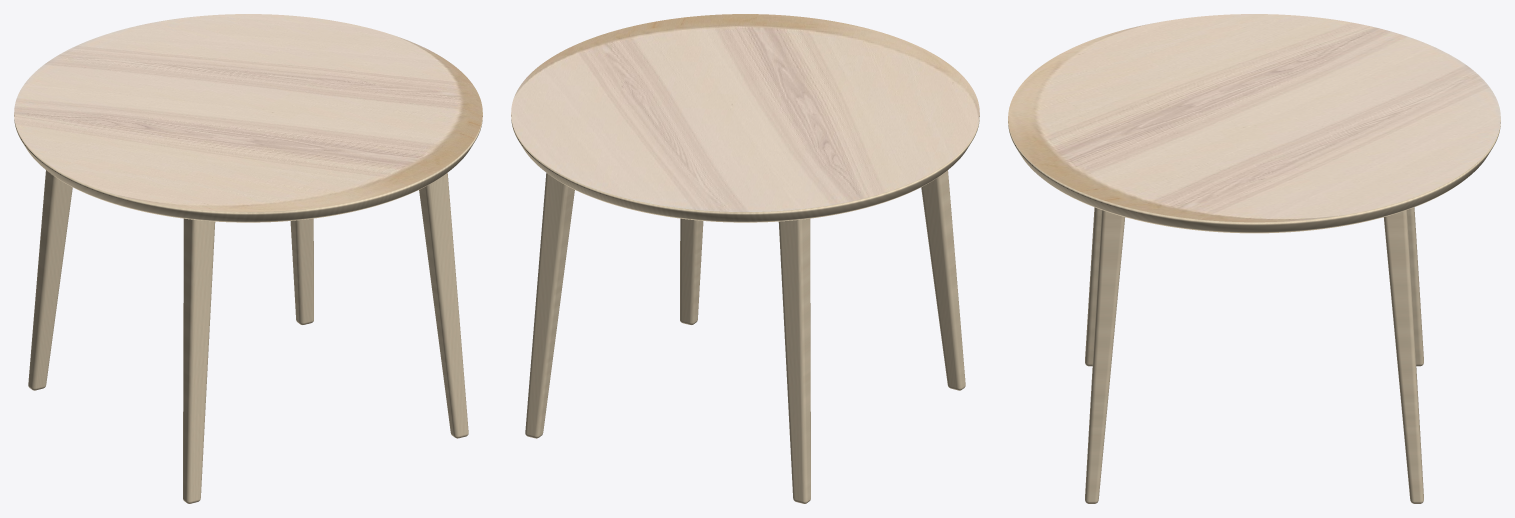
The model's file is dining-table.glb.
The picture shows the model from 3 angles, left to right: view 1: azimuth 30°, elevation 25°; view 2: azimuth 150°, elevation 25°; view 3: azimuth 270°, elevation 25°; orthographic projection. The views are drawn at different scales.
Parts seen in each view (by area): view 1: LISABO 105cm round chamfered top, Rounded tapered birch leg, Rounded tapered birch leg.002, Rounded tapered birch leg.001, Rounded tapered birch leg.003; view 2: LISABO 105cm round chamfered top, Rounded tapered birch leg.001, Rounded tapered birch leg.003, Rounded tapered birch leg, Rounded tapered birch leg.002; view 3: LISABO 105cm round chamfered top, Rounded tapered birch leg.002, Rounded tapered birch leg.003, Rounded tapered birch leg, Rounded tapered birch leg.001.
Boxes of the visible parts, x1,y1,x2,y2 form: LISABO 105cm round chamfered top: (14, 14, 482, 222); Rounded tapered birch leg: (183, 218, 215, 503); Rounded tapered birch leg.002: (419, 173, 468, 438); Rounded tapered birch leg.001: (28, 170, 72, 390); Rounded tapered birch leg.003: (290, 218, 313, 324); LISABO 105cm round chamfered top: (511, 14, 979, 222); Rounded tapered birch leg.001: (778, 218, 810, 503); Rounded tapered birch leg.003: (525, 173, 574, 438); Rounded tapered birch leg: (921, 170, 965, 390); Rounded tapered birch leg.002: (680, 218, 703, 324); LISABO 105cm round chamfered top: (1008, 14, 1500, 233); Rounded tapered birch leg.002: (1085, 210, 1125, 503); Rounded tapered birch leg.003: (1383, 210, 1423, 503); Rounded tapered birch leg: (1085, 207, 1101, 366); Rounded tapered birch leg.001: (1407, 207, 1423, 366).
Bounding box in the file's own units: 1.05 × 0.74 × 1.05.
Materials: 2 (2 with a texture image).
